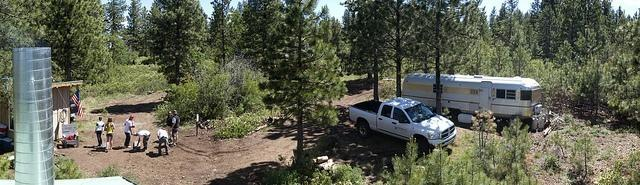truck: (348, 96, 457, 152)
